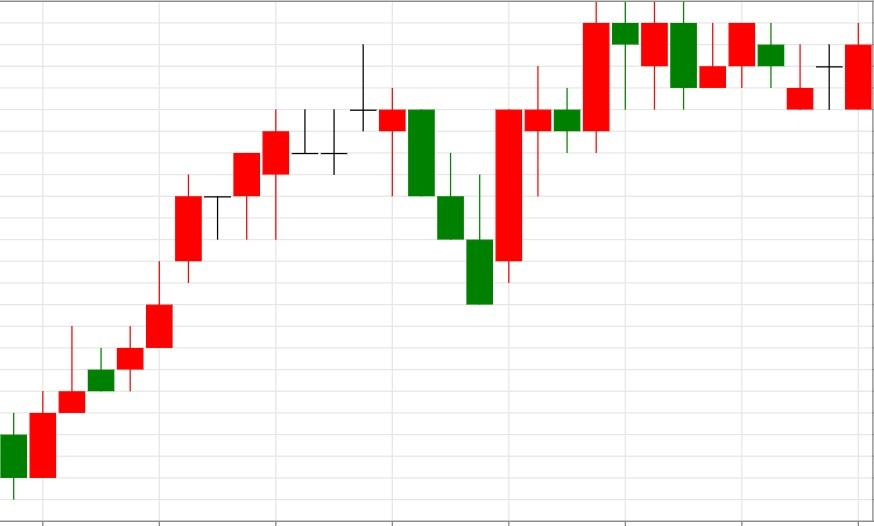three_black_crows_fall: (0, 44, 494, 499)
